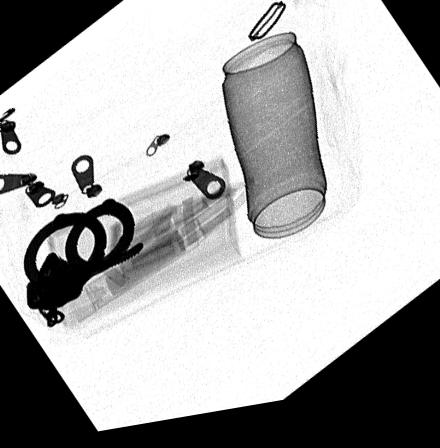HandCuffs: (23, 202, 144, 329)
